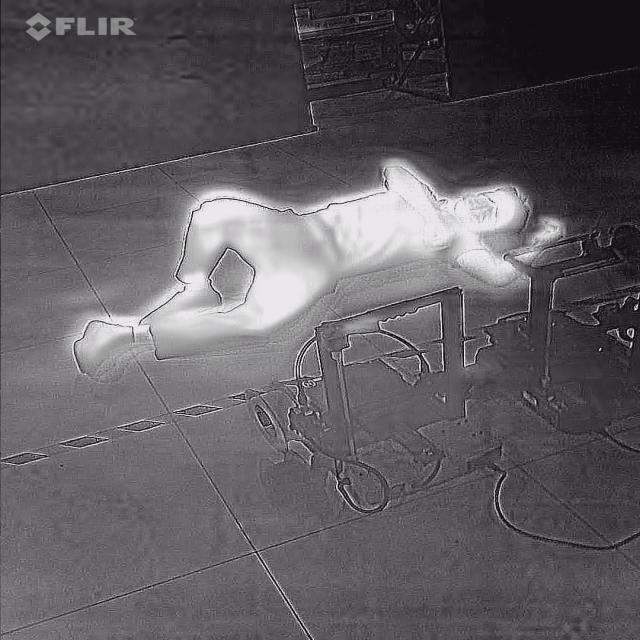Victim: (55, 146, 573, 382)
